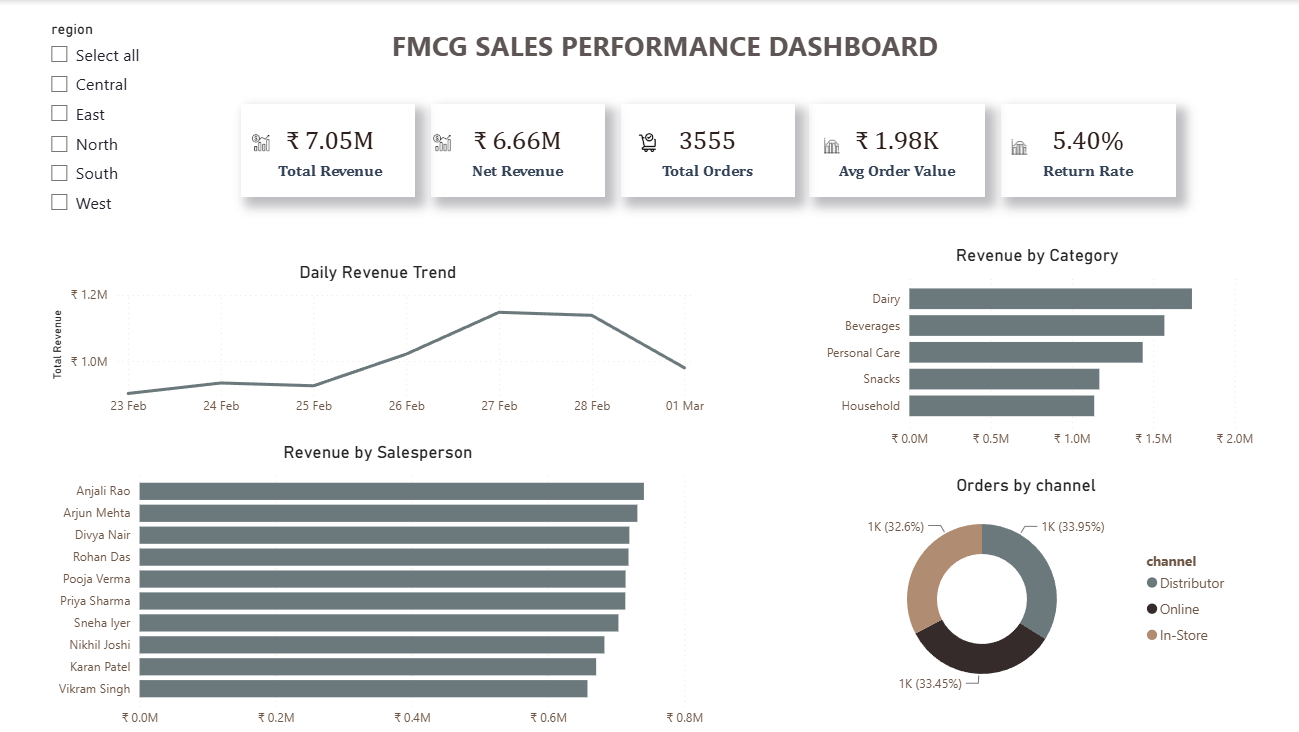

Layout of this report page (visuals, bound fields, positions):
{"tool":"powerbi","page":{"name":"Page 2","canvas":[1280,720],"ordinal":0},"visuals":[{"type":"textbox","box":[380.3,20.8,560.1,45.2],"z":0},{"type":"card","fields":{"Values":["_measures.Total Revenue"]},"box":[237.2,101.5,170.4,90.8],"z":1000,"group":"g2"},{"type":"card","fields":{"Values":["_measures.Net Revenue"]},"box":[422.9,101.5,170.4,90.8],"z":2000,"group":"g2"},{"type":"card","fields":{"Values":["_measures.Total Orders"]},"box":[608.5,101.5,170.4,90.8],"z":3000,"group":"g2"},{"type":"card","fields":{"Values":["_measures.Avg Order Value"]},"box":[794.2,101.5,171.7,90.8],"z":4000,"group":"g2"},{"type":"card","fields":{"Values":["_measures.Return Rate"]},"box":[981.1,101.5,171.7,90.8],"z":5000,"group":"g2"},{"type":"image","box":[244.7,131.3,24.9,17.4],"z":6000,"group":"g1"},{"type":"image","box":[422.6,131.3,24.9,17.4],"z":7000,"group":"g1"},{"type":"image","box":[626.6,125.1,18.7,29.9],"z":8000,"group":"g1"},{"type":"image","box":[808.2,131.3,14.9,23.6],"z":9000,"group":"g1"},{"type":"image","box":[992.3,132.6,14.9,23.6],"z":10000,"group":"g1"},{"type":"lineChart","title":"Daily Revenue Trend","fields":{"Y":["_measures.Total Revenue"],"Category":["sales_data.order_date.Variation.Date Hierarchy.Year","sales_data.order_date.Variation.Date Hierarchy.Quarter","sales_data.order_date.Variation.Date Hierarchy.Month","sales_data.order_date.Variation.Date Hierarchy.Day"]},"box":[47.7,255.6,648.1,160.2],"z":11000},{"type":"barChart","title":"Revenue by Category","fields":{"Category":["sales_data.category"],"Y":["_measures.Total Revenue"]},"box":[799.7,239.7,434.1,207.9],"z":12000},{"type":"clusteredBarChart","title":"Revenue by Salesperson","fields":{"Y":["_measures.Total Revenue"],"Category":["sales_data.salesperson"]},"box":[47.7,431.7,648.1,288.6],"z":13000},{"type":"donutChart","title":"Orders by channel","fields":{"Category":["sales_data.channel"],"Y":["_measures.Total Orders"]},"box":[797.3,464.7,417,223.8],"z":14000},{"type":"group","id":"g1","title":"Group 1","box":[244.7,125.1,762.5,31.1],"z":14001,"group":"g2"},{"type":"group","id":"g2","title":"Group 2","box":[237.2,101.5,915.9,90.5],"z":14002},{"type":"slicer","fields":{"Values":["sales_data.region"]},"box":[39.1,14.7,179.8,220.1],"z":14003}]}

Visuals, with their boxes in screenshot pixels (x1, y1, x2, y2), scaled from the page's 1280x720 canvas onto the 1299x732 screenshot:
textbox: crop(386, 21, 954, 67)
card - _measures.Total Revenue: crop(241, 103, 414, 196)
card - _measures.Net Revenue: crop(429, 103, 602, 196)
card - _measures.Total Orders: crop(618, 103, 790, 196)
card - _measures.Avg Order Value: crop(806, 103, 980, 196)
card - _measures.Return Rate: crop(996, 103, 1170, 196)
image: crop(248, 133, 274, 151)
image: crop(429, 133, 454, 151)
image: crop(636, 127, 655, 158)
image: crop(820, 133, 835, 157)
image: crop(1007, 135, 1022, 159)
"Daily Revenue Trend" lineChart: crop(48, 260, 706, 423)
"Revenue by Category" barChart: crop(812, 244, 1252, 455)
"Revenue by Salesperson" clusteredBarChart: crop(48, 439, 706, 731)
"Orders by channel" donutChart: crop(809, 472, 1232, 700)
"Group 1" group: crop(248, 127, 1022, 159)
"Group 2" group: crop(241, 103, 1170, 195)
slicer - sales_data.region: crop(40, 15, 222, 239)
